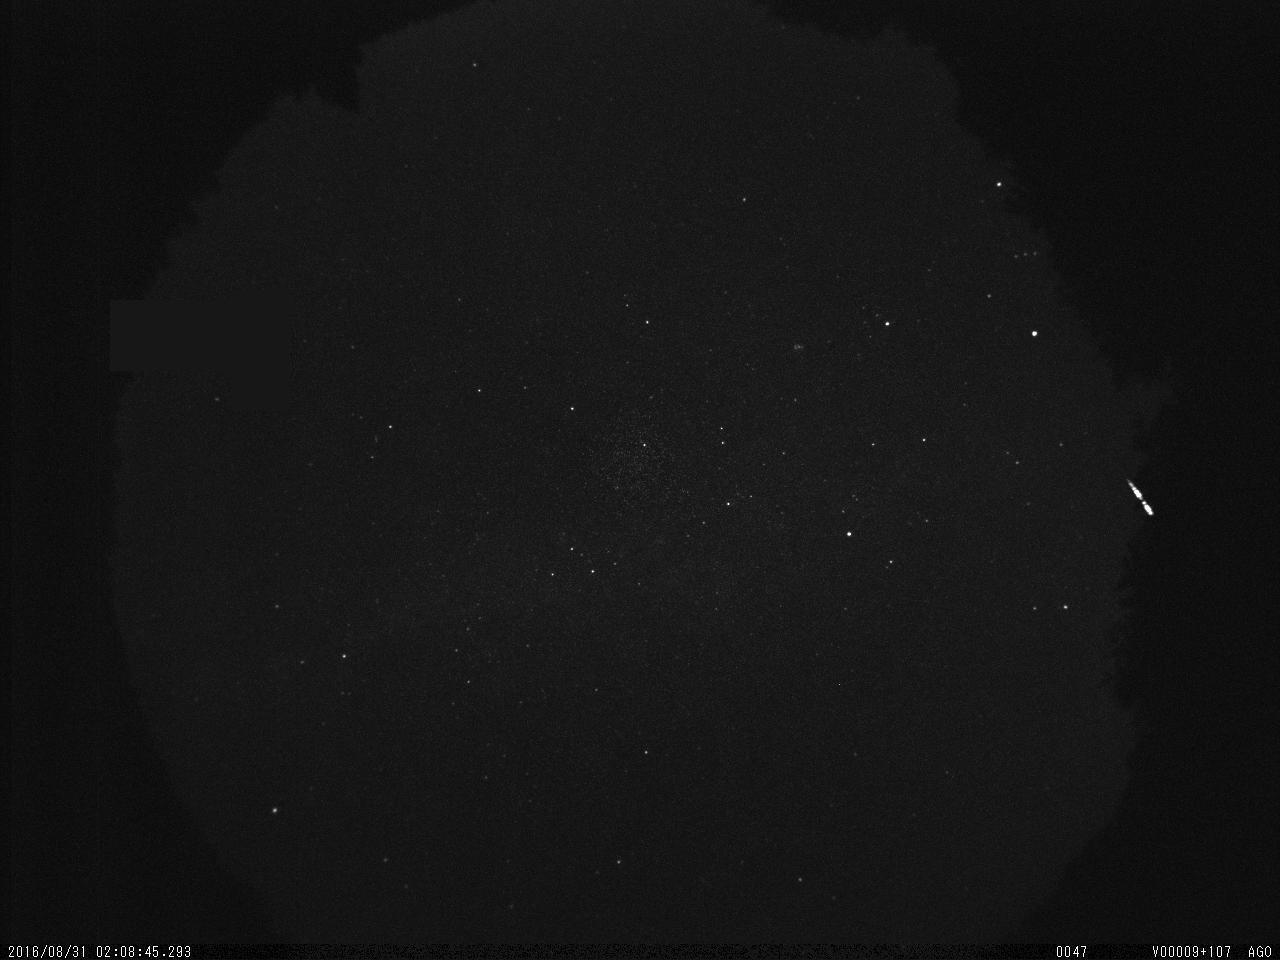Meteor: (1125, 476, 1156, 517)
